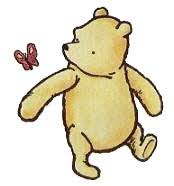Winnie: (60, 8, 136, 94)
